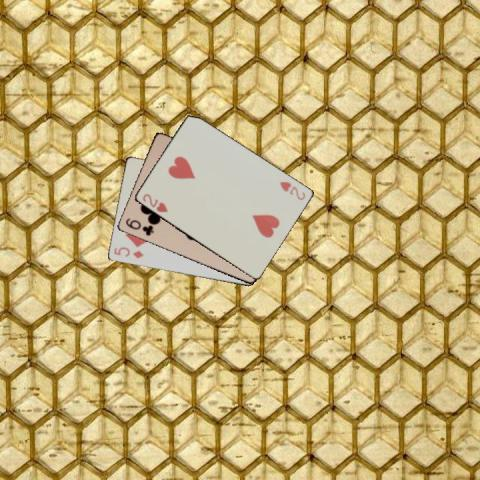2h: (276, 179, 307, 202), (139, 191, 169, 214)
5d: (110, 244, 144, 260)
6c: (122, 216, 154, 237)
